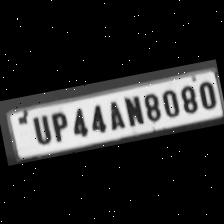0: (156, 85, 182, 119), (193, 77, 218, 111)
4: (83, 99, 108, 135), (64, 104, 90, 138)
8: (138, 88, 163, 123), (176, 80, 200, 115)
A: (102, 96, 126, 132)
N: (120, 92, 144, 128)
P: (45, 107, 70, 142)
U: (27, 110, 52, 146)
